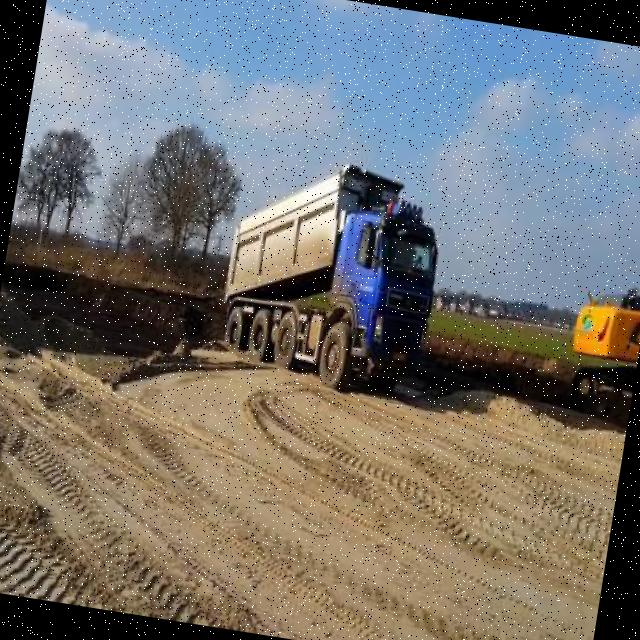Dump Truck: (210, 146, 452, 401)
Excavator: (561, 230, 640, 421)
